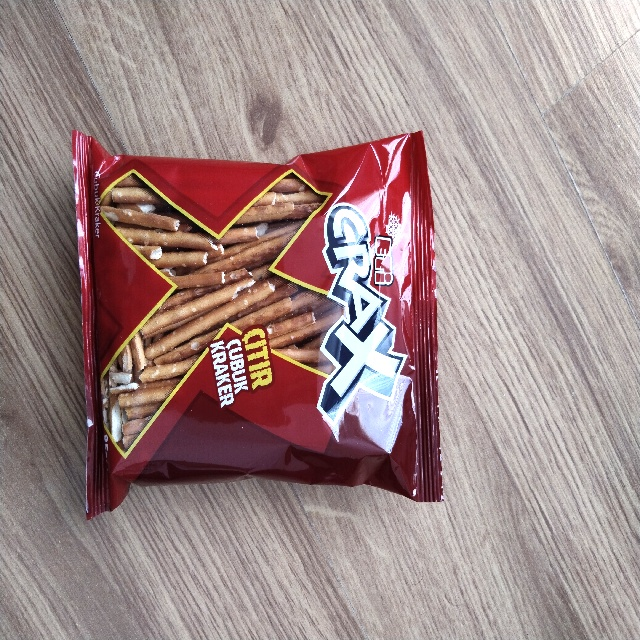eti_crax_cubuk_kraker: (76, 132, 436, 512)
